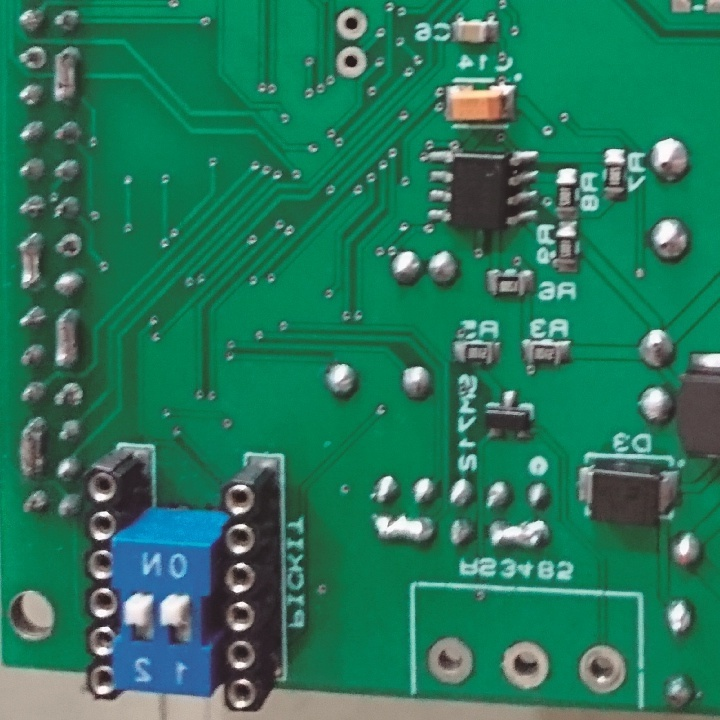F: (421, 635, 476, 686), (578, 640, 626, 697), (501, 638, 549, 692), (331, 42, 370, 80), (332, 6, 373, 42), (16, 39, 50, 75), (52, 380, 87, 412), (51, 229, 82, 260)
P: (369, 512, 439, 546), (50, 45, 84, 109), (487, 518, 551, 552), (51, 306, 81, 372), (17, 417, 49, 478), (19, 231, 47, 294)
